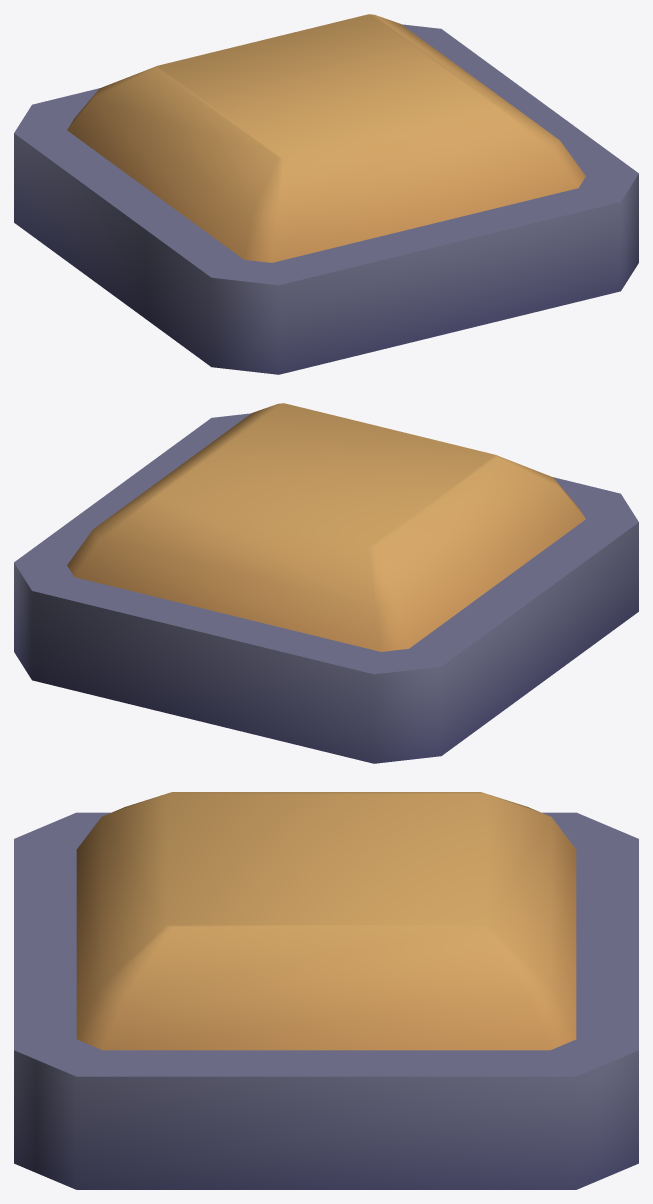
The model's file is button-floor-square-small.glb.
3 renders of one model, top to bottom at view 1: azimuth 30°, elevation 25°; view 2: azimuth 150°, elevation 25°; view 3: azimuth 270°, elevation 25°, orthographic. The views are drawn at different scales.
Parts seen in each view (by area): view 1: button-floor-square-small, button; view 2: button-floor-square-small, button; view 3: button, button-floor-square-small.
Part boxes in pixels (bbox=[...]): button-floor-square-small: bbox=[14, 24, 638, 374]; button: bbox=[67, 14, 585, 262]; button-floor-square-small: bbox=[14, 413, 638, 763]; button: bbox=[67, 403, 585, 651]; button: bbox=[76, 792, 576, 1050]; button-floor-square-small: bbox=[14, 812, 638, 1189].
Size of the model in its own units: 0.5 by 0.175 by 0.5.
